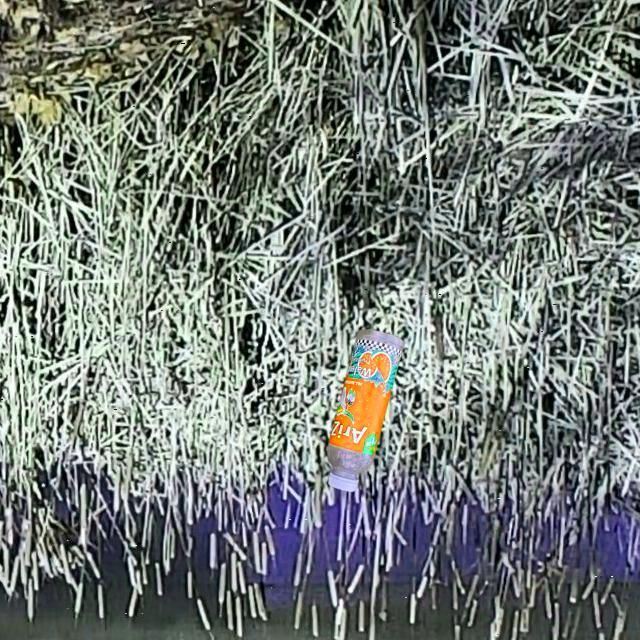Plastic: (322, 325, 407, 495)
